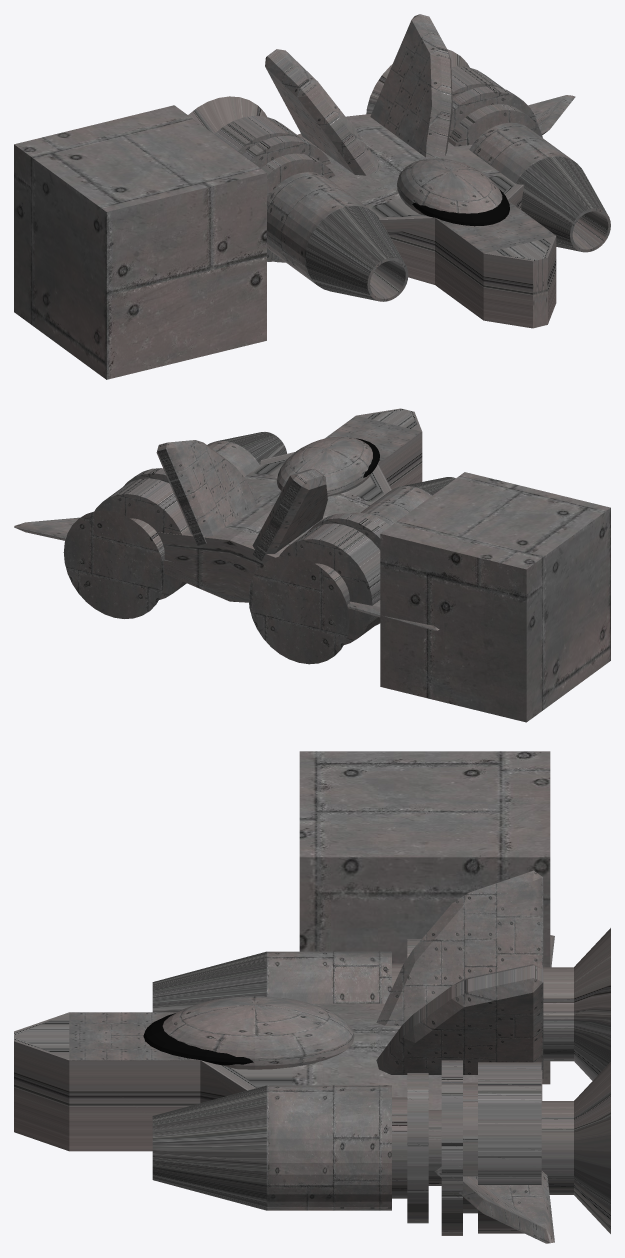
File: metal.glb
3 views of the same model, one above another, from view 1: azimuth 30°, elevation 25°; view 2: azimuth 150°, elevation 25°; view 3: azimuth 270°, elevation 25° (orthographic). The views are drawn at different scales.
Visible parts, largest first — view 1: Cube.001, 円柱, Cube, 平面.001, 球, 球.001, 平面; view 2: Cube.001, 円柱, Cube, 平面.001, 球, 平面; view 3: 円柱, Cube.001, Cube, 平面.001, 球, 平面, 球.001.
Part boxes in pixels (x1,y1,x2,y2): Cube.001: [14, 105, 266, 379]; 円柱: [188, 49, 610, 301]; Cube: [297, 114, 556, 328]; 平面.001: [265, 14, 452, 175]; 球: [397, 158, 502, 215]; 球.001: [412, 189, 509, 226]; 平面: [528, 95, 575, 134]; Cube.001: [380, 472, 610, 722]; 円柱: [63, 432, 455, 664]; Cube: [157, 408, 422, 602]; 平面.001: [156, 440, 327, 561]; 球: [277, 436, 372, 496]; 平面: [14, 517, 439, 630]; 円柱: [152, 928, 610, 1235]; Cube.001: [299, 751, 550, 1084]; Cube: [14, 1003, 542, 1151]; 平面.001: [376, 870, 543, 1078]; 球: [162, 996, 354, 1069]; 平面: [434, 935, 554, 1243]; 球.001: [143, 1013, 253, 1065].
Bounding box in the file's own units: 7 × 2.44 × 4.76.
Materials: 2 (1 with a texture image).
